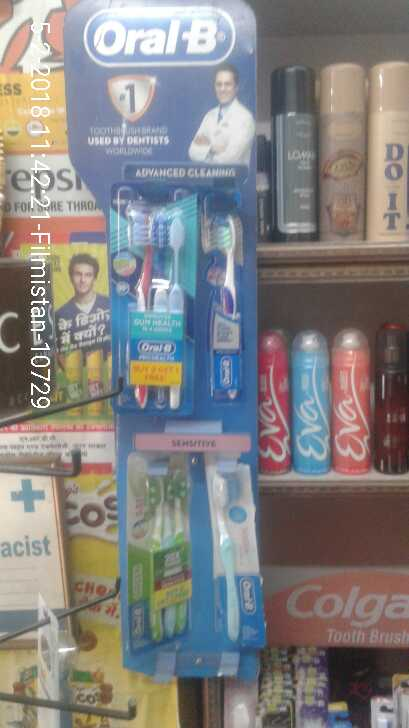oralb: (124, 197, 191, 402), (131, 469, 200, 655), (211, 462, 254, 641), (207, 215, 246, 400)
